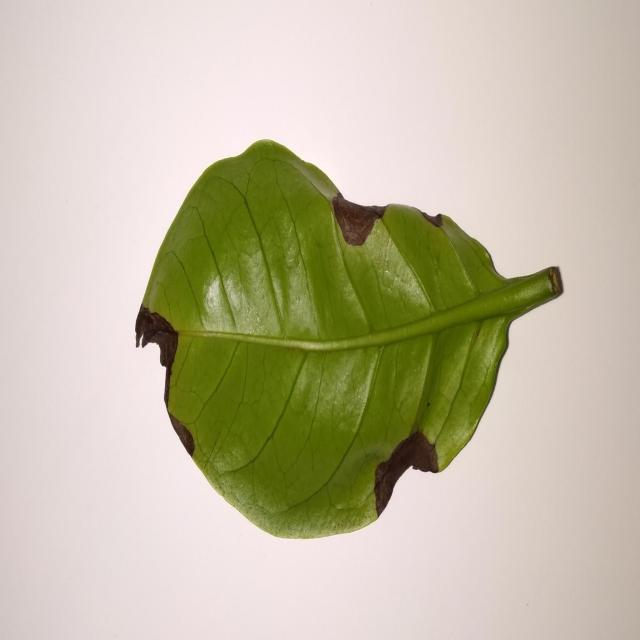Enfermedad-Antracnosis: (134, 141, 565, 542)
